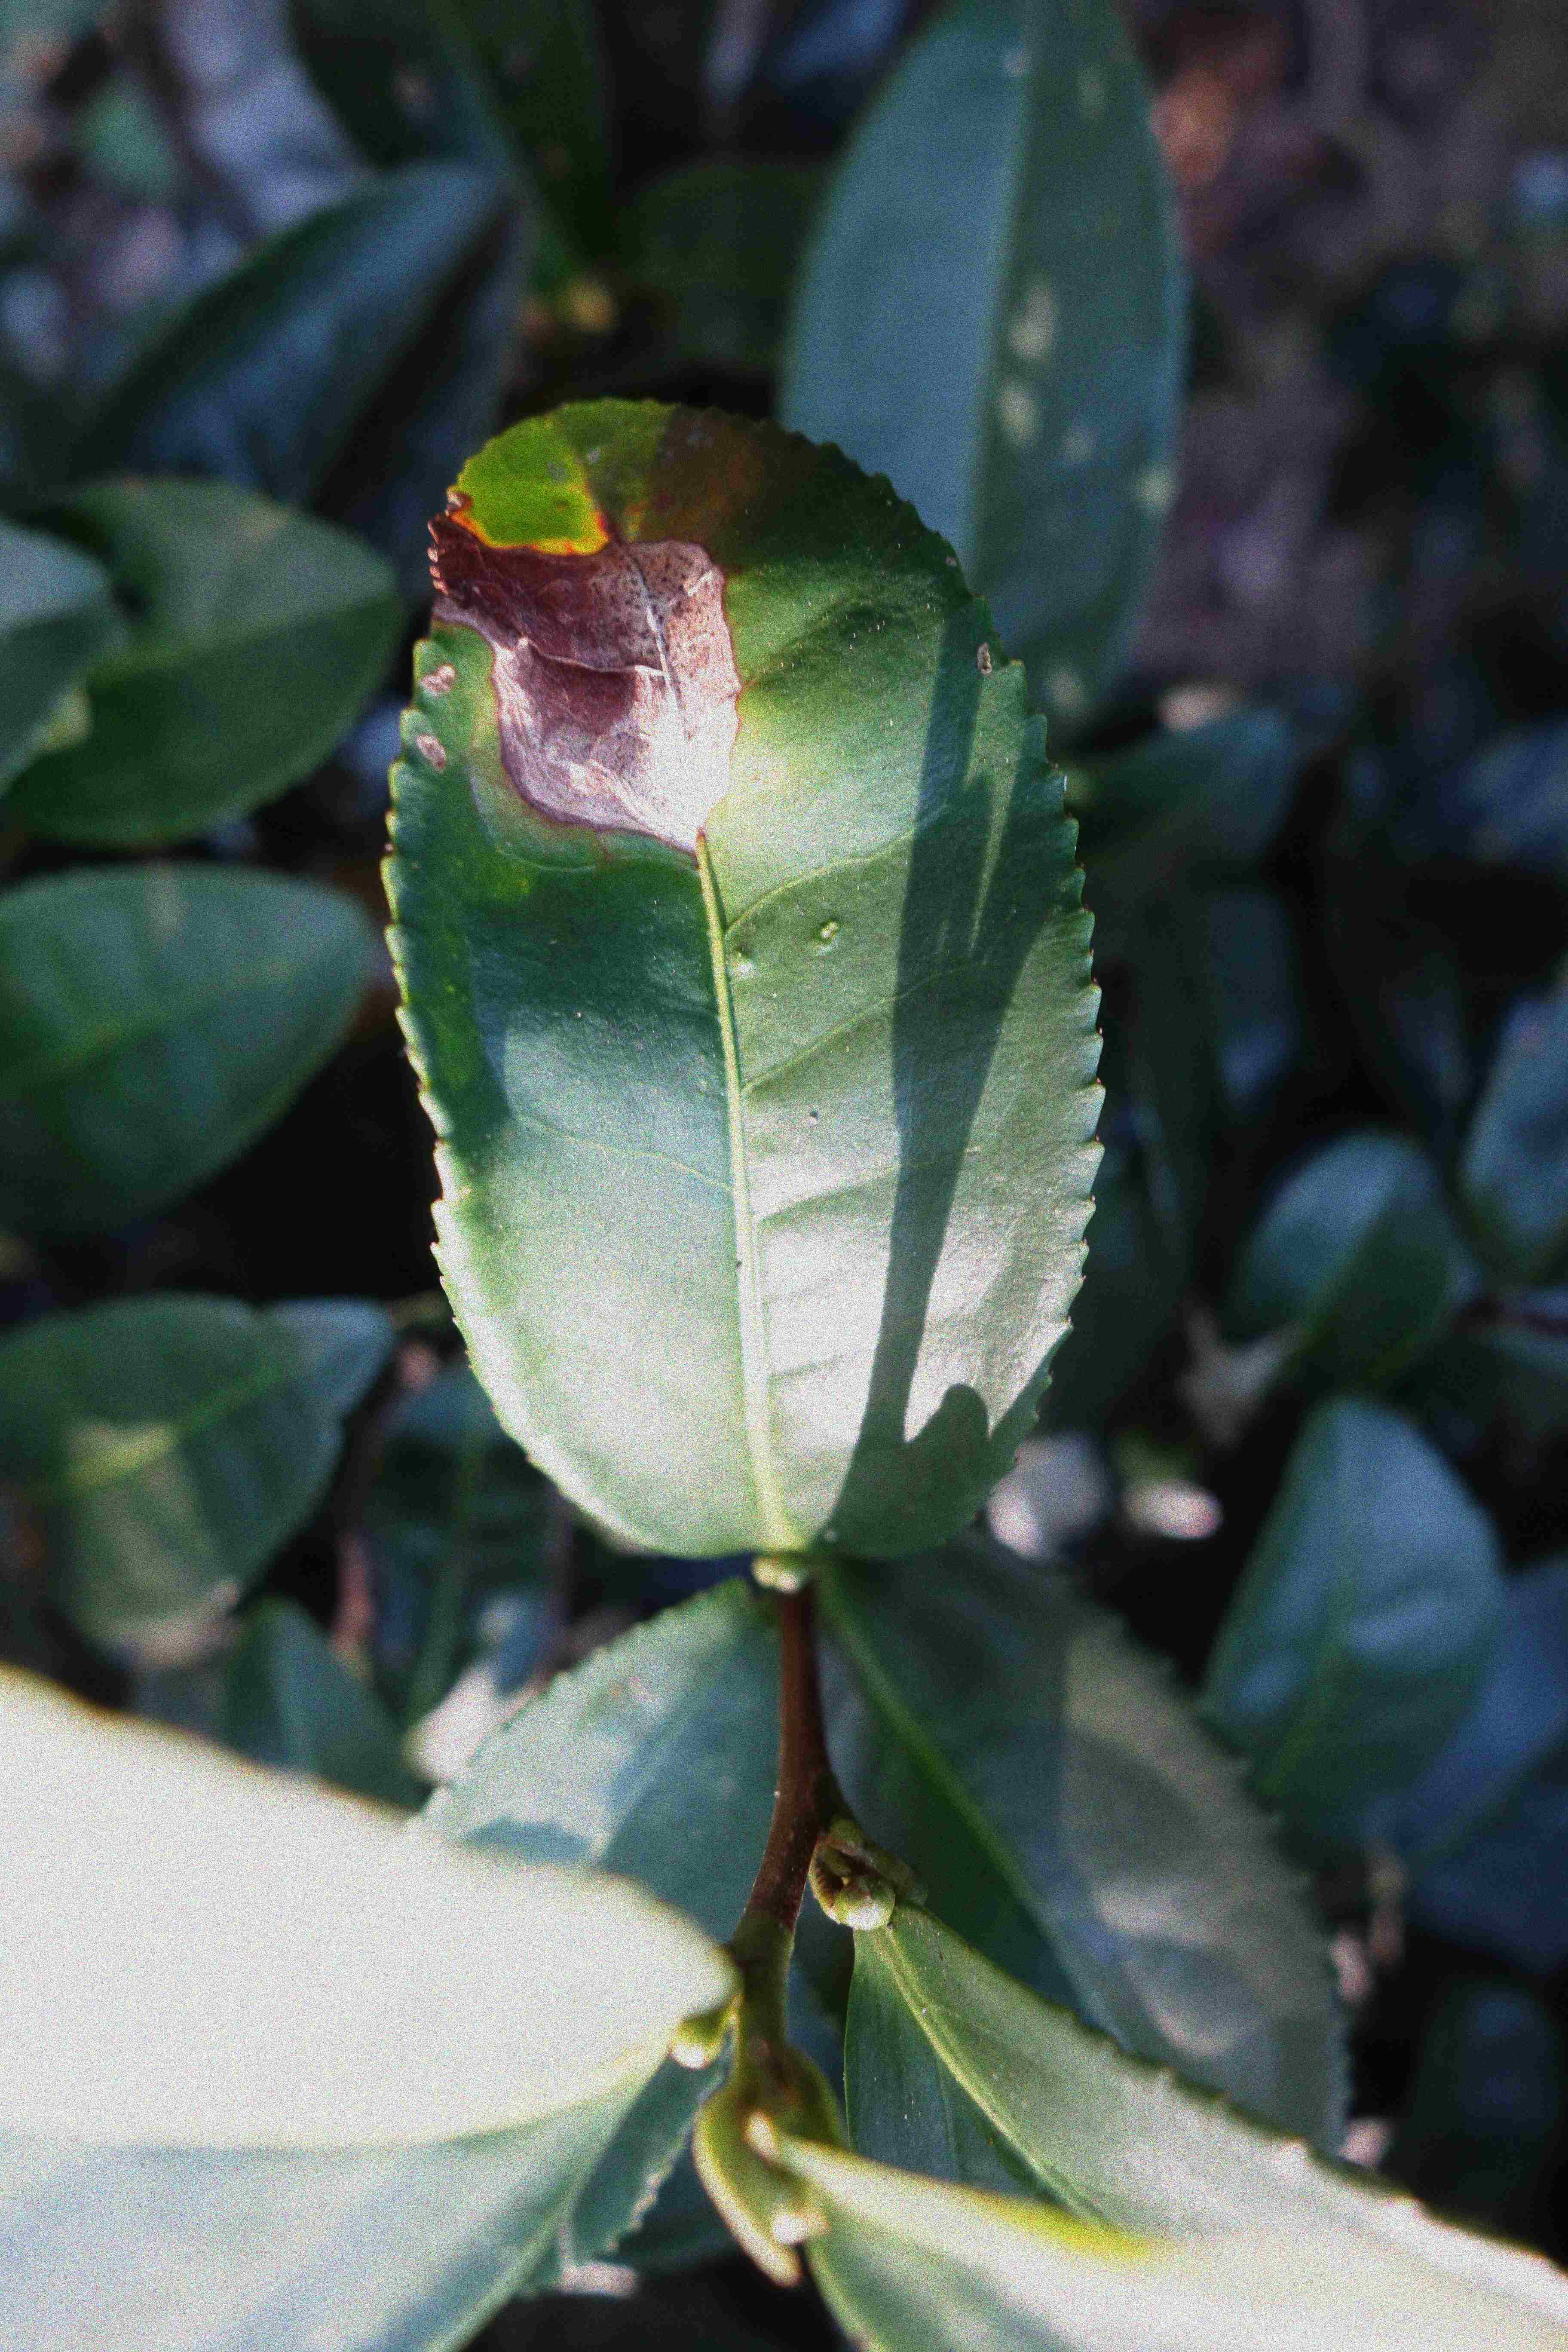tanju_high: (380, 392, 1109, 1566)
